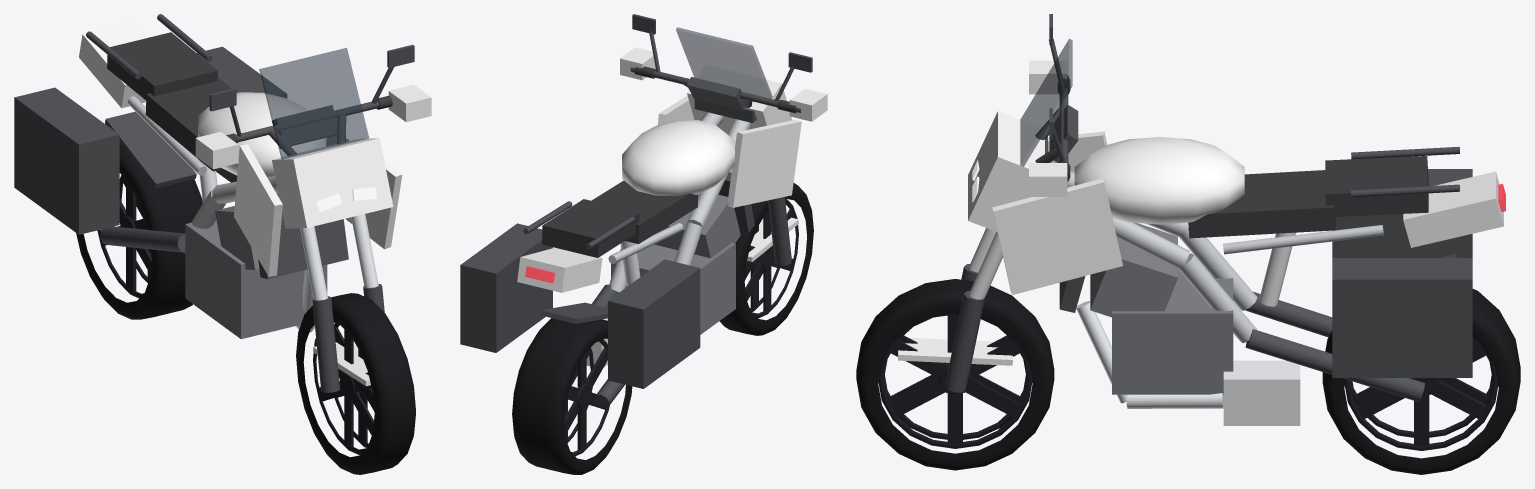
Rendered from yamaha_tracer7.glb.
3 renders of one model, left to right at view 1: azimuth 30°, elevation 25°; view 2: azimuth 150°, elevation 25°; view 3: azimuth 270°, elevation 25°, orthographic. The views are drawn at different scales.
Visible parts, largest first — view 1: body_trim (×2), body_paint (×2), tire (×2), body_glass, rim (×3), body_chrome (×2), headlights; view 2: body_trim (×2), body_paint (×2), tire (×2), rim (×3), body_glass, body_chrome; view 3: body_trim (×2), body_paint (×2), tire (×2), rim (×4), body_chrome (×2), body_glass.
Boxes of the visible parts, bbox=[...] form: body_trim (×2): bbox=[14, 14, 414, 392]; body_paint (×2): bbox=[79, 22, 431, 386]; tire (×2): bbox=[76, 143, 415, 474]; body_glass: bbox=[259, 48, 368, 159]; rim (×3): bbox=[97, 180, 374, 455]; body_chrome (×2): bbox=[198, 159, 378, 332]; headlights: bbox=[316, 187, 376, 212]; body_trim (×2): bbox=[460, 14, 812, 407]; body_paint (×2): bbox=[517, 47, 827, 292]; tire (×2): bbox=[512, 183, 813, 474]; rim (×3): bbox=[564, 198, 798, 456]; body_glass: bbox=[676, 27, 772, 98]; body_chrome: bbox=[586, 241, 640, 367]; body_trim (×2): bbox=[945, 14, 1472, 401]; body_paint (×2): bbox=[898, 60, 1503, 365]; tire (×2): bbox=[856, 279, 1520, 474]; rim (×4): bbox=[878, 313, 1498, 450]; body_chrome (×2): bbox=[968, 228, 1300, 425]; body_glass: bbox=[1020, 39, 1072, 166].
Bounding box in the file's own units: 0.86 × 1.39 × 2.08.
